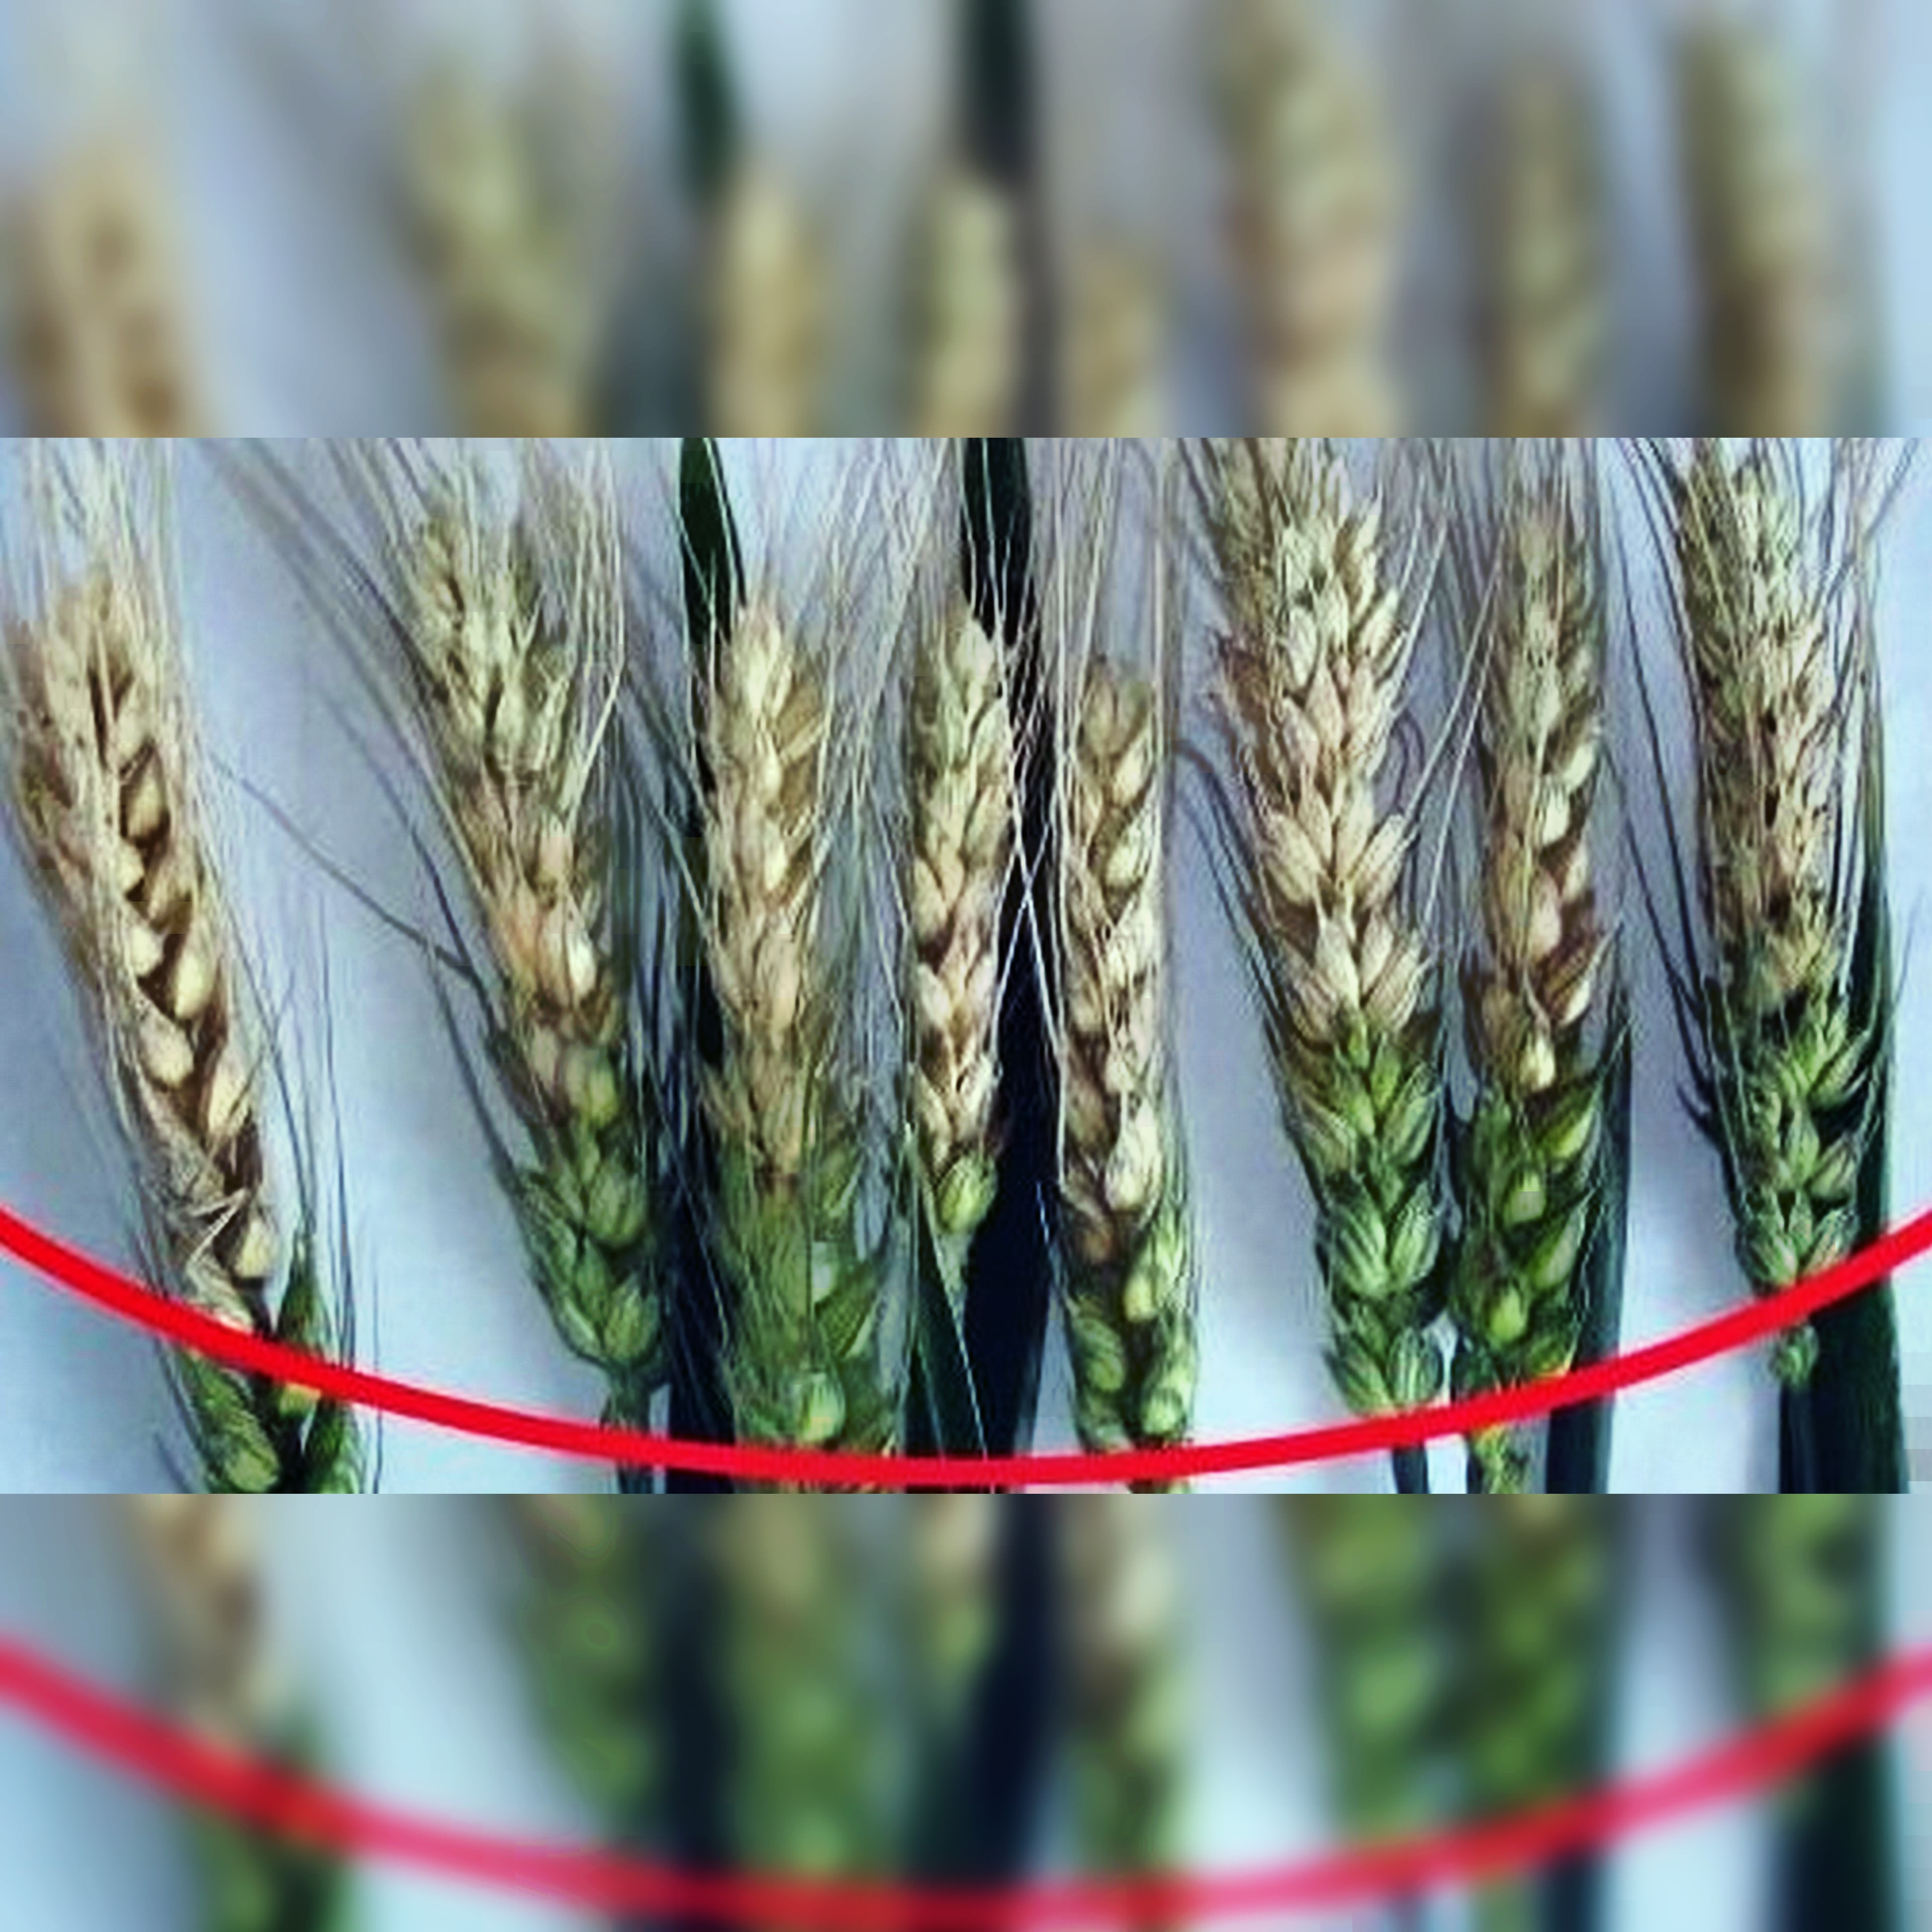Wheat scab: (393, 499, 704, 1382), (1201, 467, 1477, 1366)
